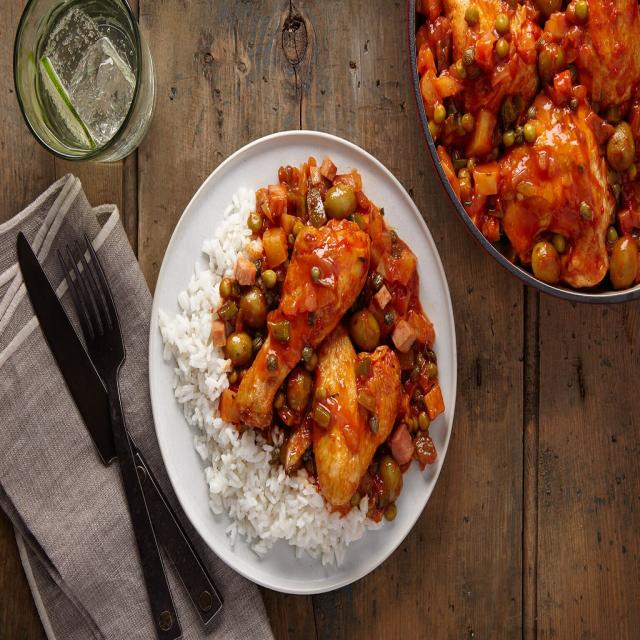arroz: (150, 306, 258, 497)
pollo: (235, 227, 376, 425), (298, 328, 414, 501)
